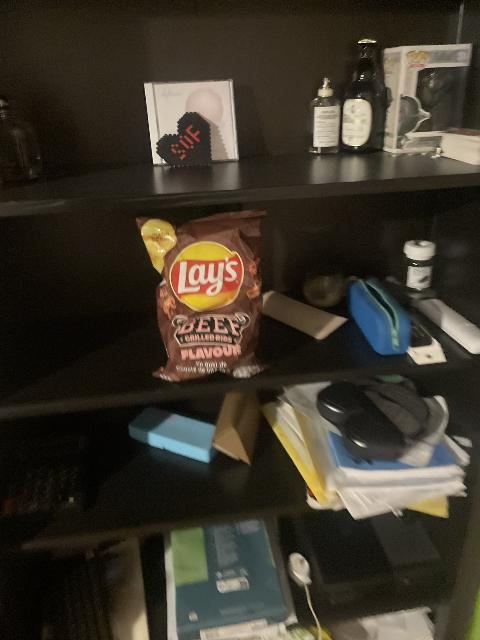Lays Beef Grilled Ribs 125g: (141, 211, 270, 379)
